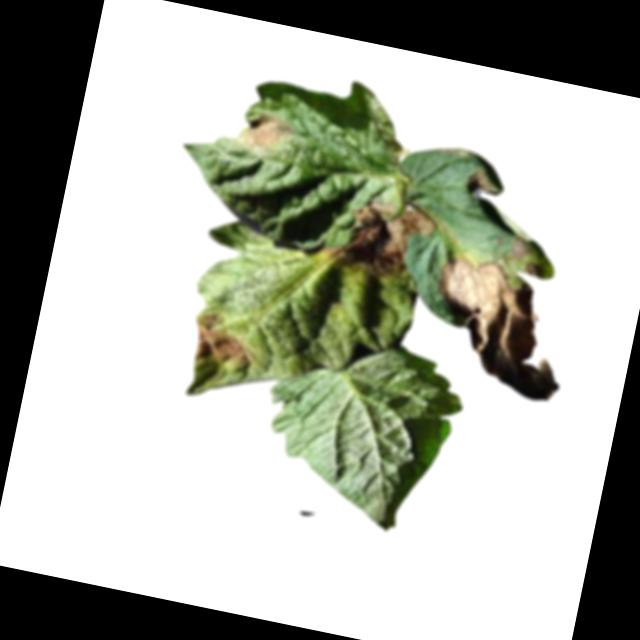Late_blight: (419, 253, 583, 406), (319, 189, 441, 287), (232, 104, 303, 168), (186, 309, 255, 372), (461, 167, 499, 202), (507, 229, 533, 263), (522, 262, 545, 281)
healthy: (245, 321, 473, 541)
